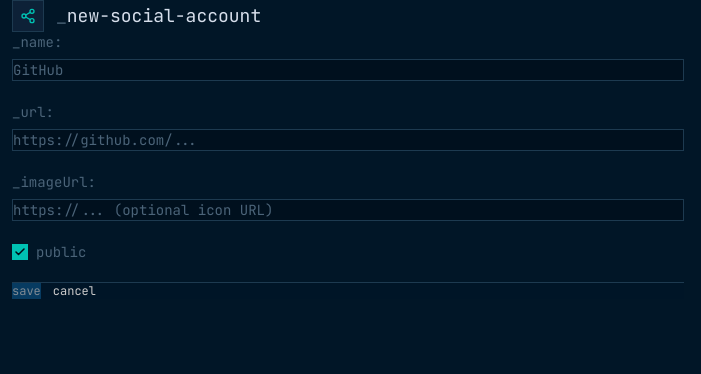
Test: "public" warning on the other forms › social account: unticking the visibility checkbox shows the warning, ticking it again hides it
Expected: the text "hides the item from every admin list" is not shown
Click the checkbox labelled "public" at (49, 252), box [12,242,86,262]
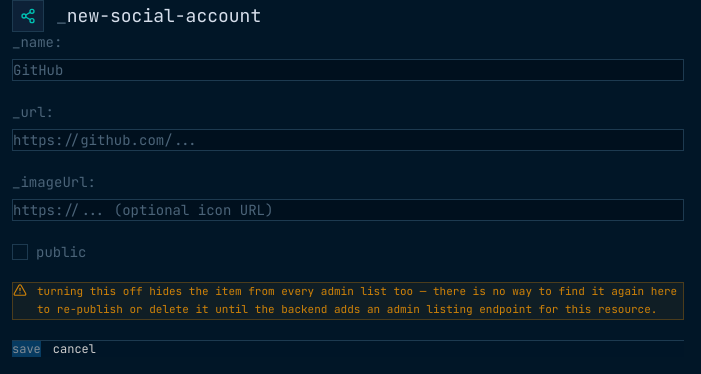
Result: the text "hides the item from every admin list" is shown at [37,284,677,316]
Click the checkbox labelled "public" at (49, 252), box [12,242,86,262]
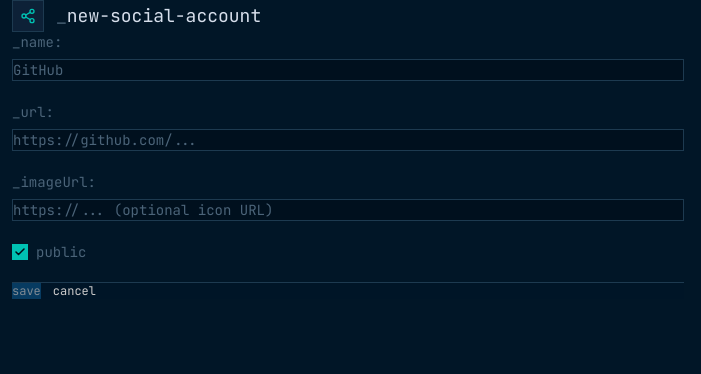
Result: the text "hides the item from every admin list" is gone
